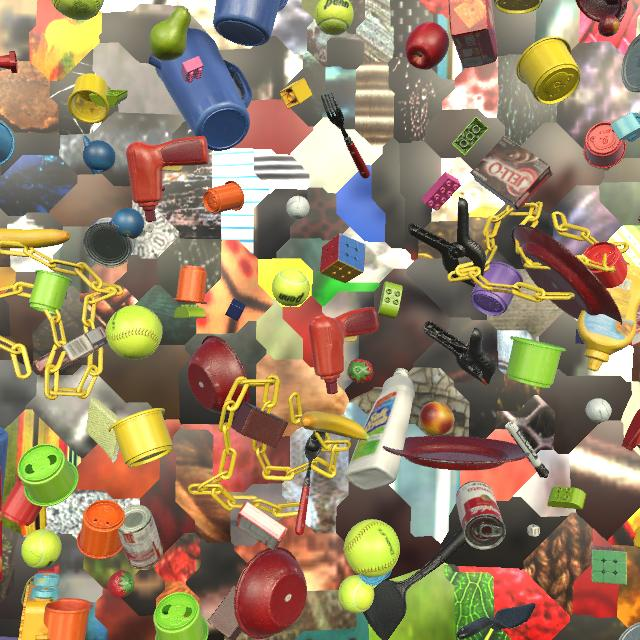ycb_002_master_chef_can: (621, 34, 640, 92), (618, 622, 640, 640)
ycb_003_cracker_box: (448, 0, 498, 68), (0, 467, 3, 582)
ycb_005_tomato_soup_can: (456, 481, 506, 550), (118, 505, 163, 569)
ycb_006_mustard_bottle: (577, 264, 640, 372)
ycb_007_tuna_fish_can: (83, 217, 135, 267)
ycb_008_pudding_box: (470, 136, 553, 211), (33, 326, 108, 378)
ycb_009_gelatin_box: (235, 501, 288, 550), (629, 307, 640, 346)
ycb_011_banana: (300, 411, 371, 440), (0, 228, 71, 249)
ycb_012_strawberry: (107, 570, 134, 598), (347, 359, 373, 383)
ycb_013_apple: (405, 22, 449, 70)
ycb_015_peach: (420, 402, 454, 436)
ycb_016_pear: (149, 7, 191, 61)
